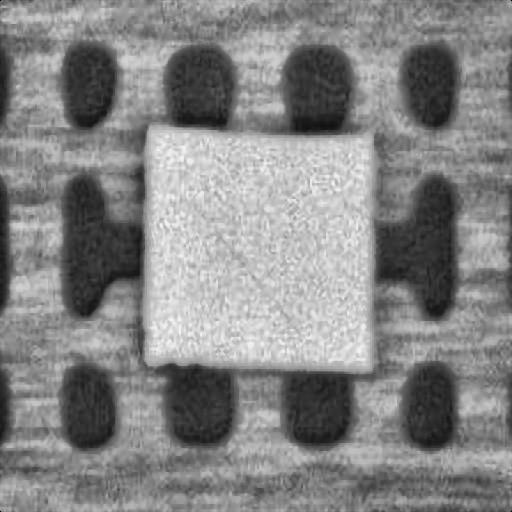DIE_CRACK: (286, 134, 448, 222)
